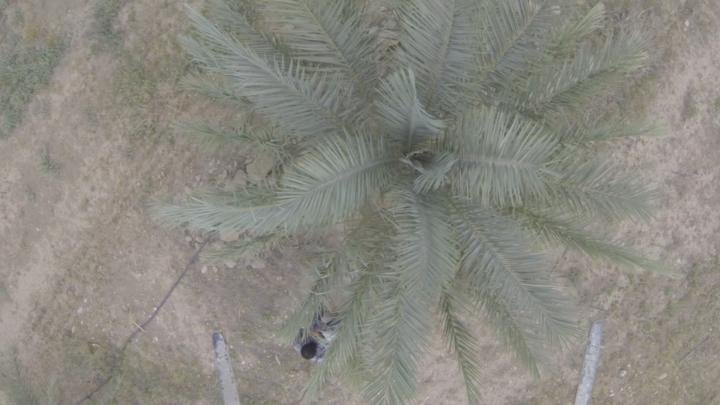Date-Palm-Crown: (310, 32, 536, 280)
